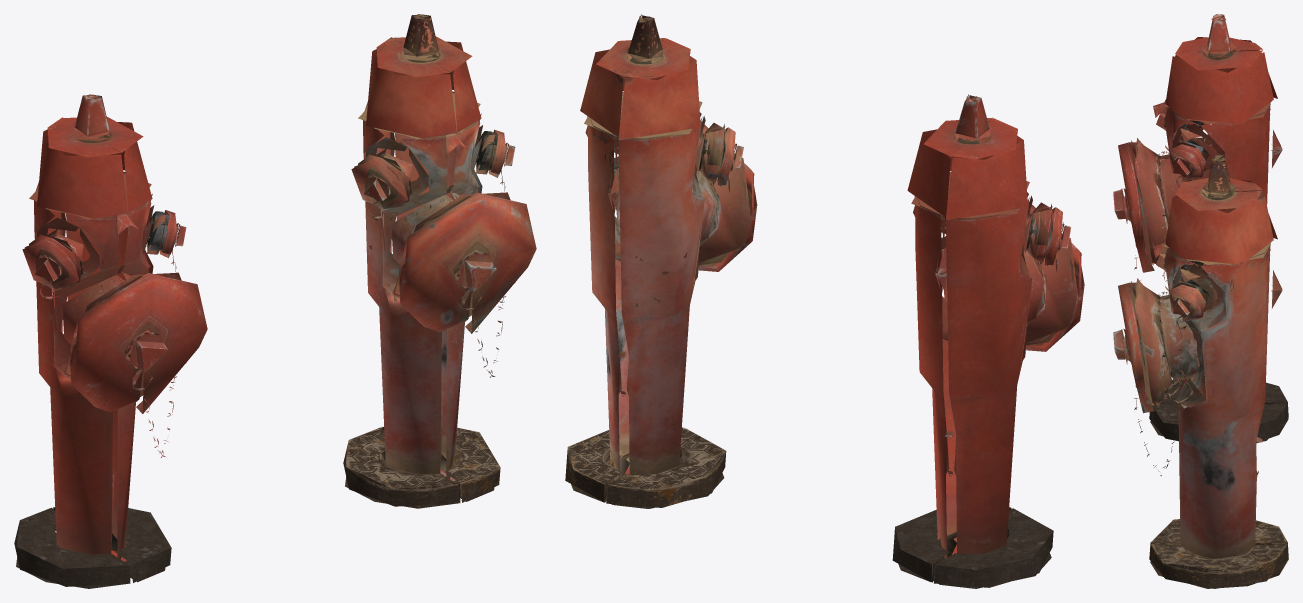
The model's file is fire_hydrant.glb.
3 views of the same model, side by side, from view 1: azimuth 30°, elevation 25°; view 2: azimuth 150°, elevation 25°; view 3: azimuth 270°, elevation 25° (orthographic). The views are drawn at different scales.
Visible parts, largest first — view 1: fire_hydrant_aged, fire_hydrant, fire_hydrant_cap_01_aged, fire_hydrant_cap_01, fire_hydrant_cap_03_aged, fire_hydrant_cap_03, fire_hydrant_cap_02_aged, fire_hydrant_cap_02; view 2: fire_hydrant, fire_hydrant_aged, fire_hydrant_cap_01, fire_hydrant_cap_01_aged, fire_hydrant_cap_03, fire_hydrant_cap_03_aged; view 3: fire_hydrant_aged, fire_hydrant, fire_hydrant_cap_01_aged, fire_hydrant_cap_01, fire_hydrant_cap_02, fire_hydrant_cap_02_aged, fire_hydrant_chain_aged.
Part boxes in pixels (box(x1,y1,x2,y2)): fire_hydrant_aged: box(343, 14, 515, 508); fire_hydrant: box(14, 94, 186, 588); fire_hydrant_cap_01_aged: box(399, 192, 536, 333); fire_hydrant_cap_01: box(70, 273, 207, 413); fire_hydrant_cap_03_aged: box(351, 153, 411, 209); fire_hydrant_cap_03: box(22, 234, 82, 289); fire_hydrant_cap_02_aged: box(486, 129, 515, 177); fire_hydrant_cap_02: box(157, 210, 186, 258); fire_hydrant: box(892, 94, 1080, 588); fire_hydrant_aged: box(565, 14, 752, 508); fire_hydrant_cap_01: box(1025, 201, 1084, 351); fire_hydrant_cap_01_aged: box(698, 120, 757, 271); fire_hydrant_cap_03: box(1040, 204, 1071, 265); fire_hydrant_cap_03_aged: box(713, 124, 743, 185); fire_hydrant_aged: box(1135, 154, 1288, 588); fire_hydrant: box(1135, 14, 1288, 441); fire_hydrant_cap_01_aged: box(1113, 281, 1154, 413); fire_hydrant_cap_01: box(1113, 140, 1154, 272); fire_hydrant_cap_02: box(1169, 142, 1205, 181); fire_hydrant_cap_02_aged: box(1169, 282, 1205, 322); fire_hydrant_chain_aged: box(1125, 291, 1193, 475).
Bounding box in the file's own units: 0.8777 × 0.8007 × 0.3173.
2 materials, 2 textured.
